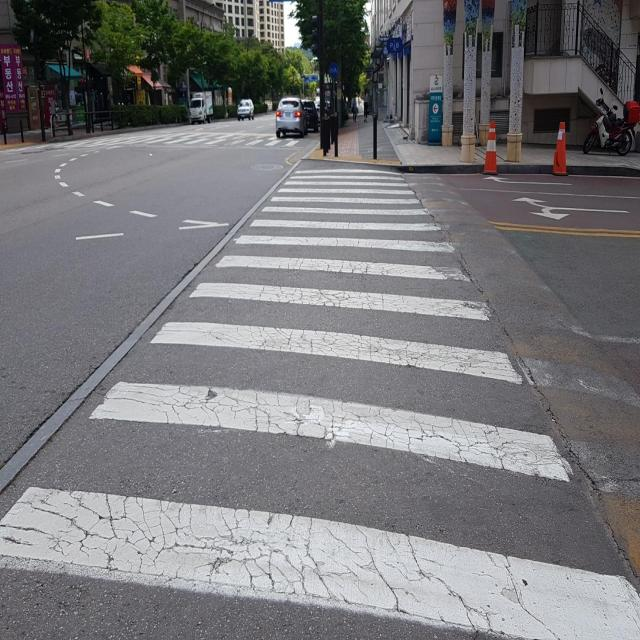횡단보도: (0, 166, 640, 640), (34, 130, 315, 154)
